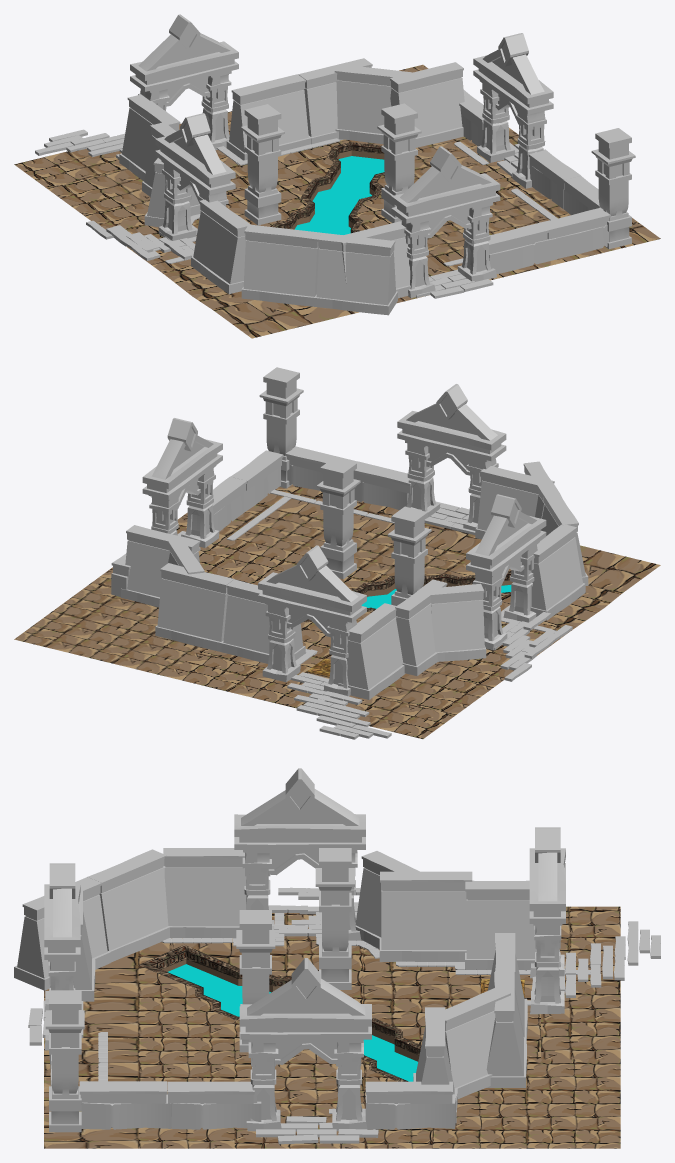
The model's file is Moonset_FBX_Room1_01.fbx.
3 views of the same model, one above another, from view 1: azimuth 30°, elevation 25°; view 2: azimuth 150°, elevation 25°; view 3: azimuth 270°, elevation 25° (orthographic). The views are drawn at different scales.
Parts seen in each view (by area): view 1: ground, Door1_pCube37, Door1_pCube36, Door1_pCube38, Door1_pCube35, wall_test_23, wall_test_6, wall_test_18, wall_test_17, wall_test_1, wall_test_7, pilar_test_2 (+16 smaller); view 2: ground, Door1_pCube38, Door1_pCube37, Door1_pCube35, Door1_pCube36, wall_test_16, wall_test_2, wall_test_15, wall_test_7, pilar_test_1, wall_test_1, wall_test_18 (+15 smaller); view 3: ground, Door1_pCube36, Door1_pCube35, wall_test_14, wall_test_7, wall_test_6, Door1_pCube38, wall_test_2, pilar_test_4, pilar_test_2, Door1_pCube37, wall_test_17 (+14 smaller).
Part boxes in pixels (<box>): ground: <box>14,64,660,338</box>; Door1_pCube37: <box>391,146,500,298</box>; Door1_pCube36: <box>473,33,553,188</box>; Door1_pCube38: <box>130,14,238,150</box>; Door1_pCube35: <box>155,113,235,240</box>; wall_test_23: <box>315,233,397,315</box>; wall_test_6: <box>241,224,321,306</box>; wall_test_18: <box>390,62,464,147</box>; wall_test_17: <box>334,64,411,144</box>; wall_test_1: <box>226,74,310,160</box>; wall_test_7: <box>191,199,250,294</box>; pilar_test_2: <box>240,104,284,225</box>; ground: <box>14,484,660,739</box>; Door1_pCube38: <box>258,545,366,696</box>; Door1_pCube37: <box>397,384,506,530</box>; Door1_pCube35: <box>466,494,546,650</box>; Door1_pCube36: <box>142,418,222,547</box>; wall_test_16: <box>155,563,234,651</box>; wall_test_2: <box>338,603,405,699</box>; wall_test_15: <box>428,583,486,661</box>; wall_test_7: <box>530,524,585,620</box>; pilar_test_1: <box>316,458,360,579</box>; wall_test_1: <box>221,579,305,663</box>; wall_test_18: <box>121,525,200,607</box>; ground: <box>44,906,620,1148</box>; Door1_pCube36: <box>240,958,371,1131</box>; Door1_pCube35: <box>234,768,365,940</box>; wall_test_14: <box>379,871,472,961</box>; wall_test_7: <box>163,848,246,938</box>; wall_test_6: <box>87,849,171,962</box>; Door1_pCube38: <box>529,827,565,1014</box>; wall_test_2: <box>465,880,535,970</box>; pilar_test_4: <box>45,990,84,1132</box>; pilar_test_2: <box>315,848,354,989</box>; Door1_pCube37: <box>44,863,80,1050</box>; wall_test_17: <box>432,987,510,1098</box>.
Size of what is drawn, in the model's own units: 33.68 by 11.46 by 37.28.
